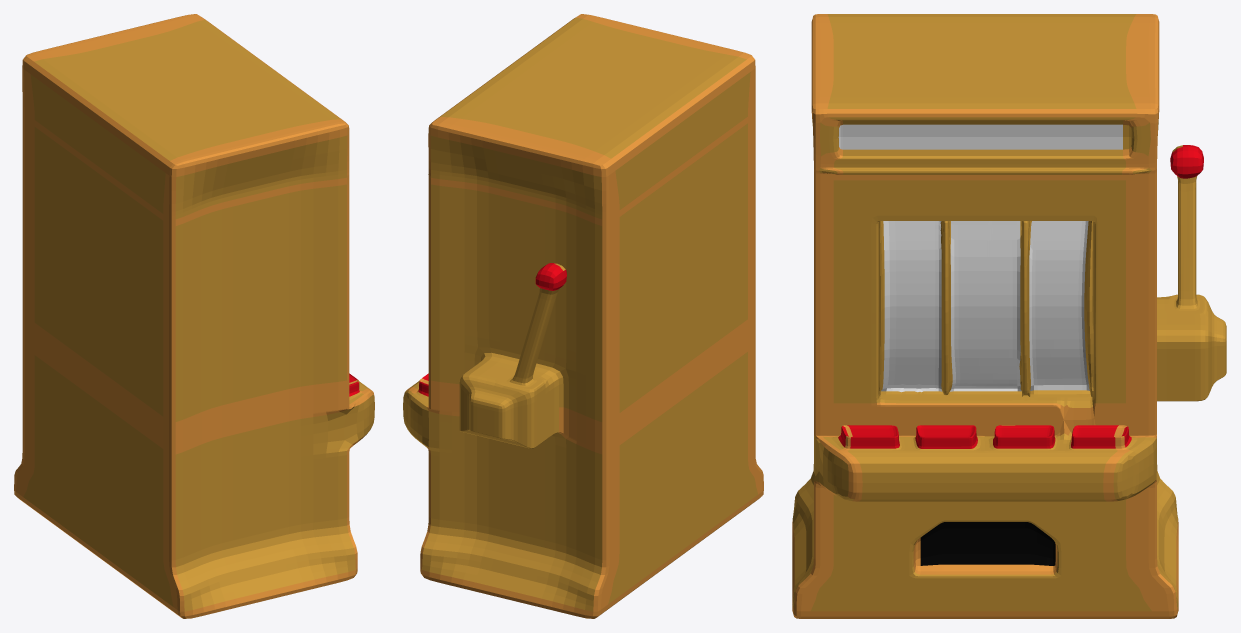
Rendered from Slot_Machine 1.fbx.
3 views of the same model, side by side, from view 1: azimuth 30°, elevation 25°; view 2: azimuth 150°, elevation 25°; view 3: azimuth 270°, elevation 25° (orthographic). The views are drawn at different scales.
Visible parts, largest first — view 1: Cube.101; view 2: Cube.101; view 3: Cube.101.
Boxes of the visible parts, left/top/right/bottom form: Cube.101: left=14, top=14, right=374, bottom=618; Cube.101: left=403, top=14, right=763, bottom=618; Cube.101: left=792, top=14, right=1226, bottom=618.
Size of the model in its own units: 34393 by 67212 by 51576.
